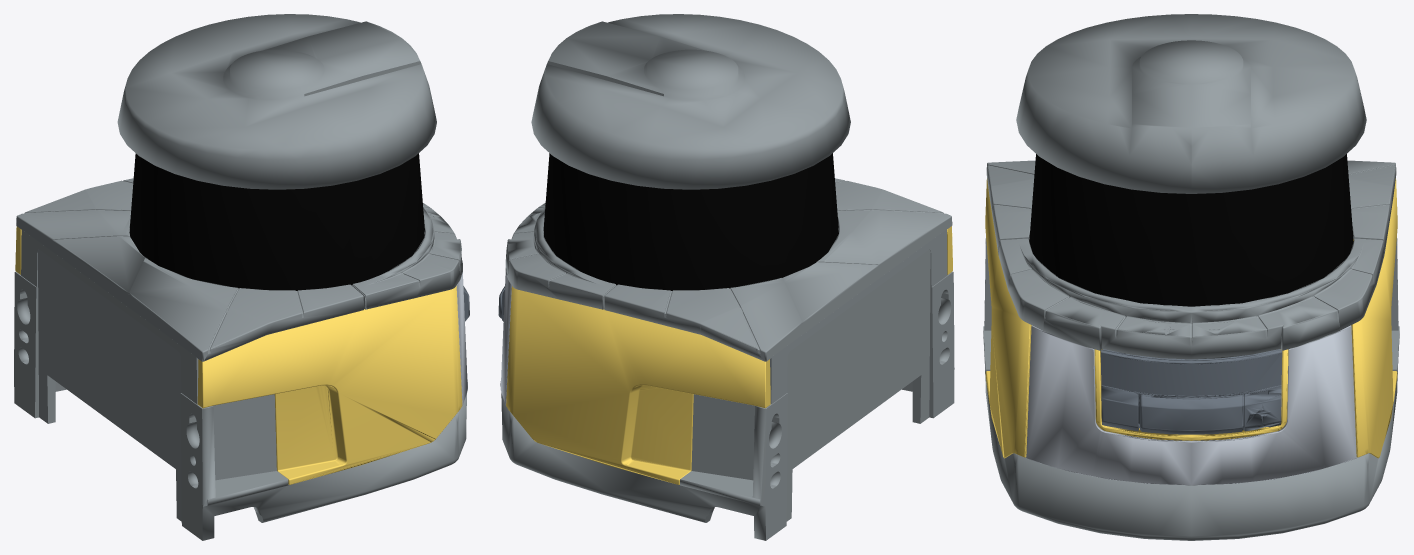
The model's file is RSL_400_visual.dae.
The picture shows the model from 3 angles, left to right: view 1: azimuth 30°, elevation 25°; view 2: azimuth 150°, elevation 25°; view 3: azimuth 270°, elevation 25°; orthographic projection. The views are drawn at different scales.
Visible parts, largest first — view 1: _ncl1_6, _ncl1_25, FBXASC05146850-01_01_GehFBXASC092SFBXASC092duseFBXASC032Sta., _ncl1_3, _ncl1_9, _ncl1_11, _ncl1_20; view 2: _ncl1_6, _ncl1_25, FBXASC05146850-01_01_GehFBXASC092SFBXASC092duseFBXASC032Sta., _ncl1_3, _ncl1_9, _ncl1_11, _ncl1_20; view 3: _ncl1_6, _ncl1_3, _ncl1_20, _ncl1_25, _ncl1_11, FBXASC05146850-01_01_GehFBXASC092SFBXASC092duseFBXASC032Sta., _ncl1_9, _ncl1_18, _ncl1_23, _ncl1_13.
Part boxes in pixels (x1,y1,x2,y2): _ncl1_6: (117,14,436,189); _ncl1_25: (14,229,467,540); FBXASC05146850-01_01_GehFBXASC092SFBXASC092duseFBXASC032Sta.: (15,226,462,484); _ncl1_3: (129,153,424,290); _ncl1_9: (16,178,363,361); _ncl1_11: (352,203,462,309); _ncl1_20: (456,272,467,404); _ncl1_6: (531,14,850,189); _ncl1_25: (501,229,954,540); FBXASC05146850-01_01_GehFBXASC092SFBXASC092duseFBXASC032Sta.: (506,226,952,484); _ncl1_3: (543,153,838,290); _ncl1_9: (604,178,952,361); _ncl1_11: (505,203,616,309); _ncl1_20: (500,272,511,404); _ncl1_6: (1016,14,1366,193); _ncl1_3: (1029,154,1353,306); _ncl1_20: (1026,325,1356,485); _ncl1_25: (983,238,1399,540); _ncl1_11: (998,238,1384,359); FBXASC05146850-01_01_GehFBXASC092SFBXASC092duseFBXASC032Sta.: (985,178,1397,458); _ncl1_9: (986,160,1396,253); _ncl1_18: (1100,353,1282,395); _ncl1_23: (1138,393,1281,434); _ncl1_13: (1100,349,1282,431).
Bounding box in the file's own units: 0.1426 × 0.1403 × 0.1479.
